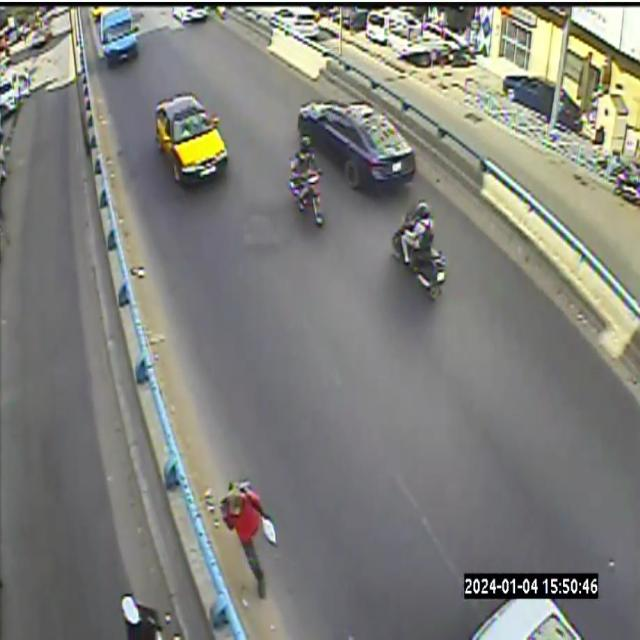car: (297, 100, 415, 189), (154, 93, 228, 183), (99, 7, 138, 65), (172, 6, 207, 22)
